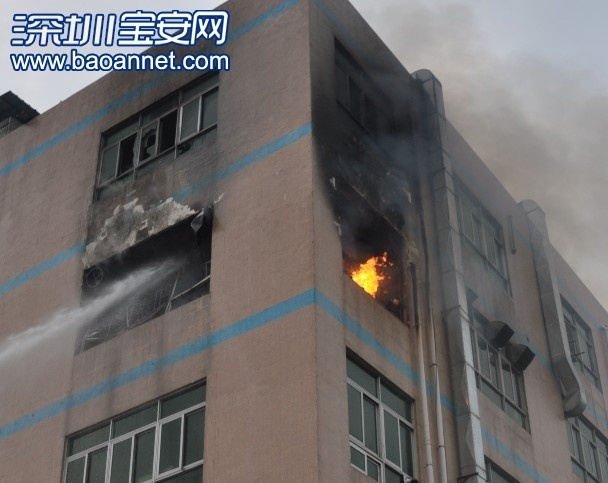fire: (347, 249, 390, 299)
